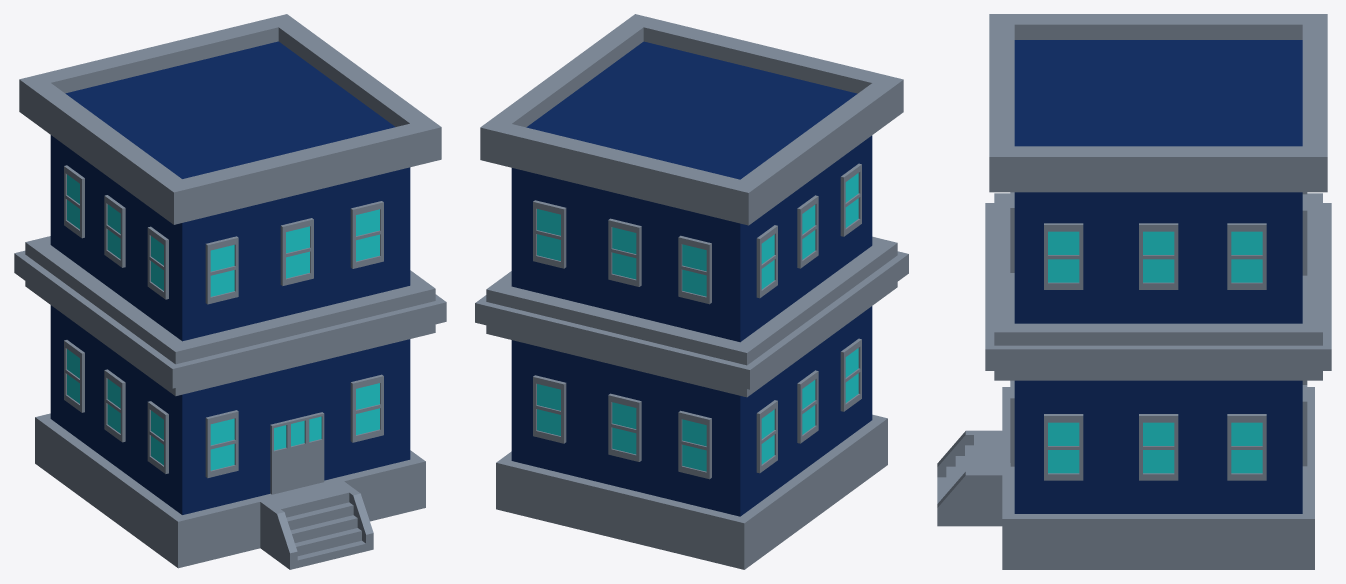
The model's file is Building3_1.fbx.
3 renders of one model, left to right at view 1: azimuth 30°, elevation 25°; view 2: azimuth 150°, elevation 25°; view 3: azimuth 270°, elevation 25°, orthographic. The views are drawn at different scales.
Visible parts, largest first — view 1: Building3_1; view 2: Building3_1; view 3: Building3_1.
Part boxes in pixels (left/top/right/bottom): Building3_1: left=14, top=14, right=446, bottom=569; Building3_1: left=475, top=14, right=908, bottom=569; Building3_1: left=937, top=14, right=1331, bottom=569.
Size of the model in its own units: 2173 by 2898 by 2476.
